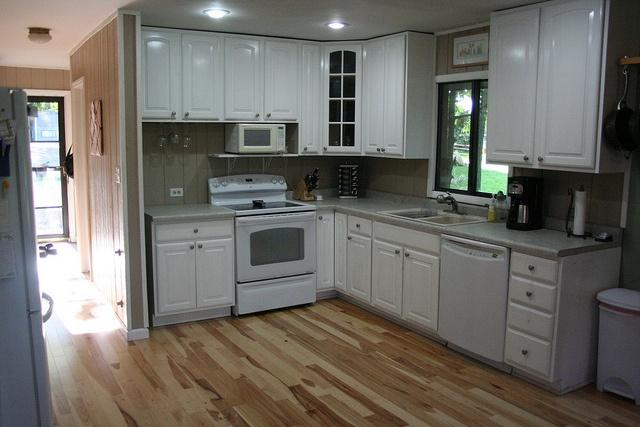Lemari: (484, 0, 639, 174), (298, 29, 436, 160)
